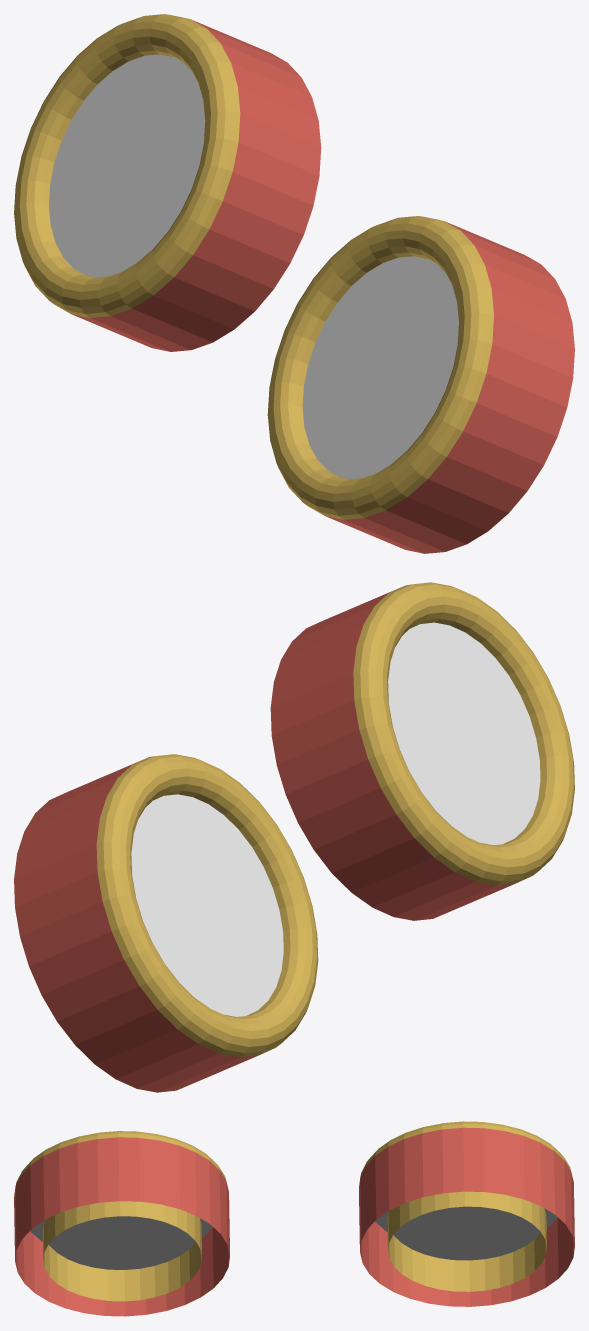
Rendered from Car guages.fbx.
The picture shows the model from 3 angles, top to bottom: view 1: azimuth 30°, elevation 25°; view 2: azimuth 150°, elevation 25°; view 3: azimuth 270°, elevation 25°; orthographic projection. The views are drawn at different scales.
Parts seen in each view (by area): view 1: Encasing_Torus; view 2: Encasing_Torus; view 3: Encasing_Torus.
Part boxes in pixels (x1,y1,x2,y2): Encasing_Torus: [14, 14, 574, 553]; Encasing_Torus: [14, 582, 574, 1092]; Encasing_Torus: [14, 1121, 574, 1316].
Size of the model in its own units: 27.95 by 35.15 by 83.92.
